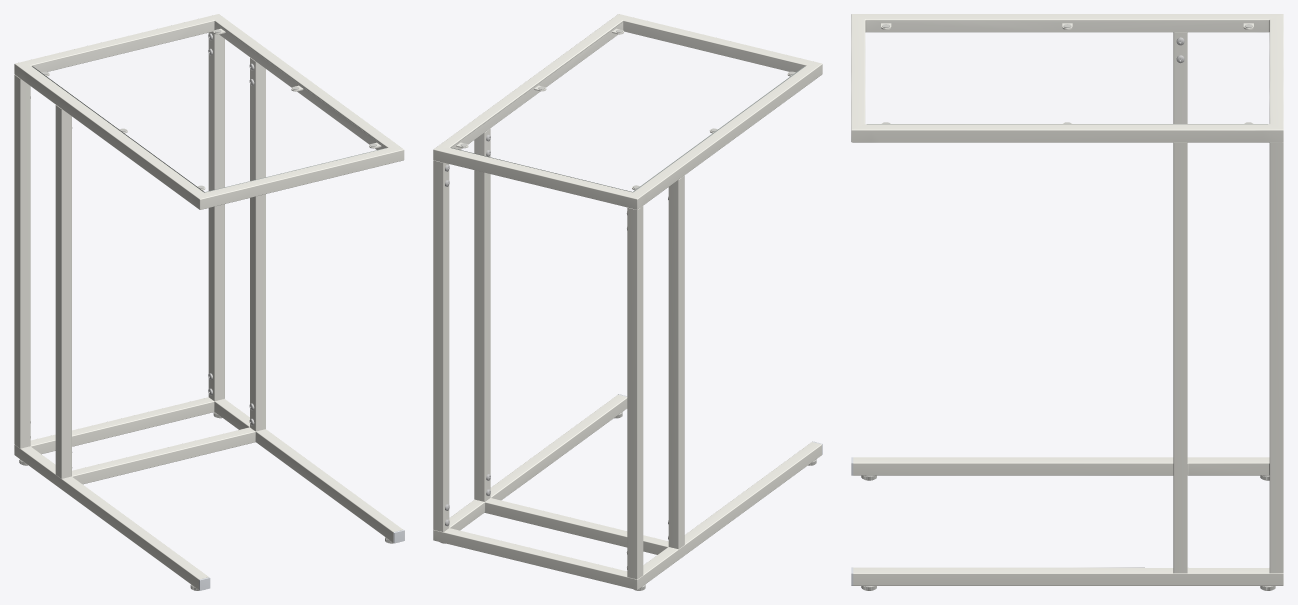
File: vittsjoe_laptop_stand_white_glass.glb
3 renders of one model, left to right at view 1: azimuth 30°, elevation 25°; view 2: azimuth 150°, elevation 25°; view 3: azimuth 270°, elevation 25°, orthographic. The views are drawn at different scales.
Visible parts, largest first — view 1: Mesh_1; view 2: Mesh_1; view 3: Mesh_1.
Boxes of the visible parts, bbox=[...] form: Mesh_1: bbox=[14, 14, 404, 590]; Mesh_1: bbox=[433, 14, 822, 590]; Mesh_1: bbox=[851, 14, 1283, 590].
Bounding box in the file's own units: 0.3518 × 0.647 × 0.55.
Materials: 2 (1 with a texture image).
